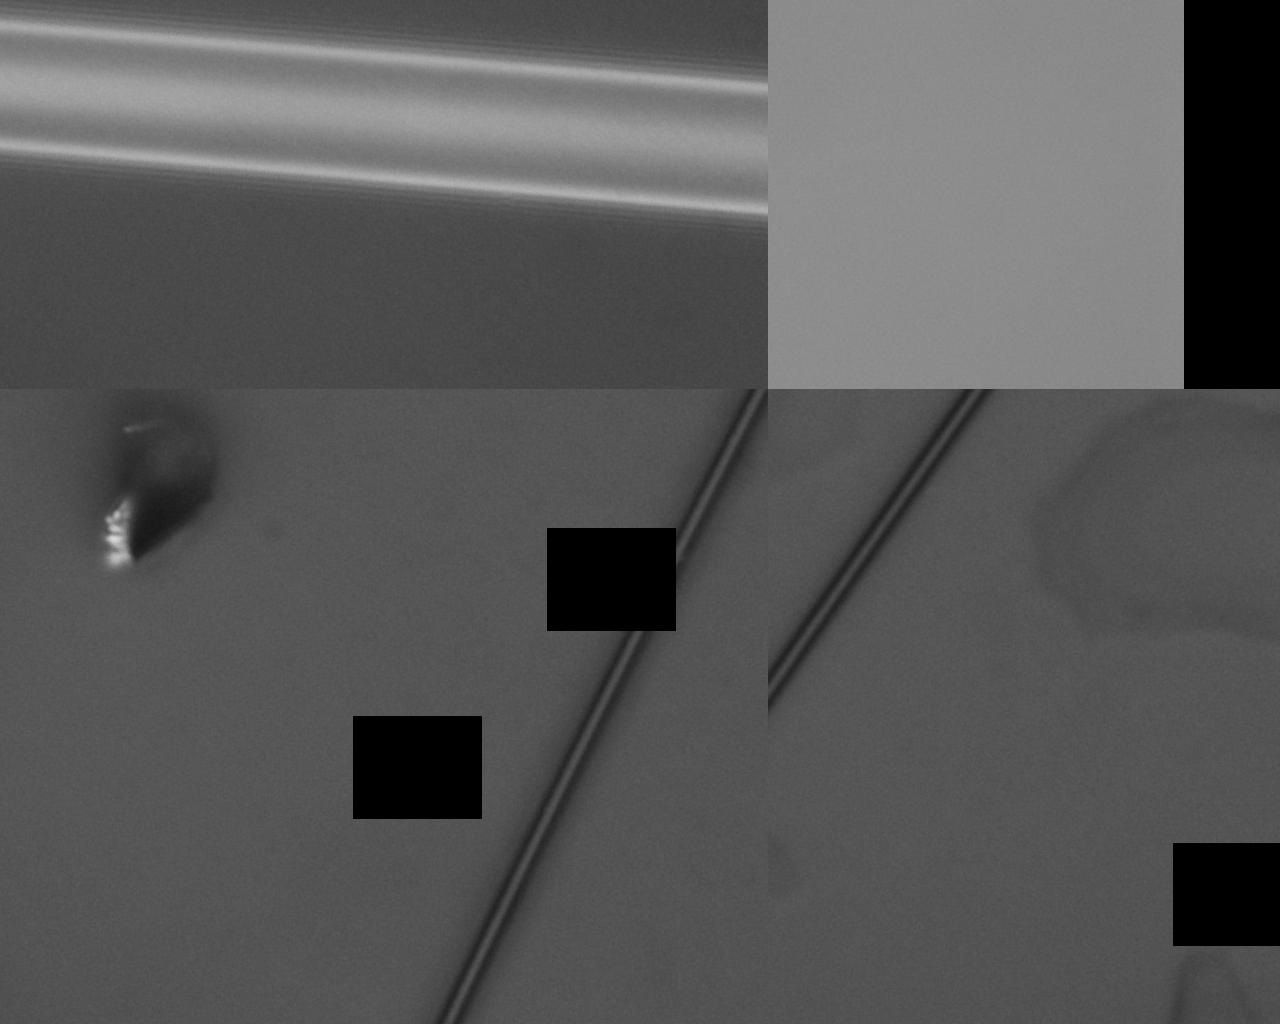fiber: (0, 614, 526, 718), (601, 0, 629, 419)
